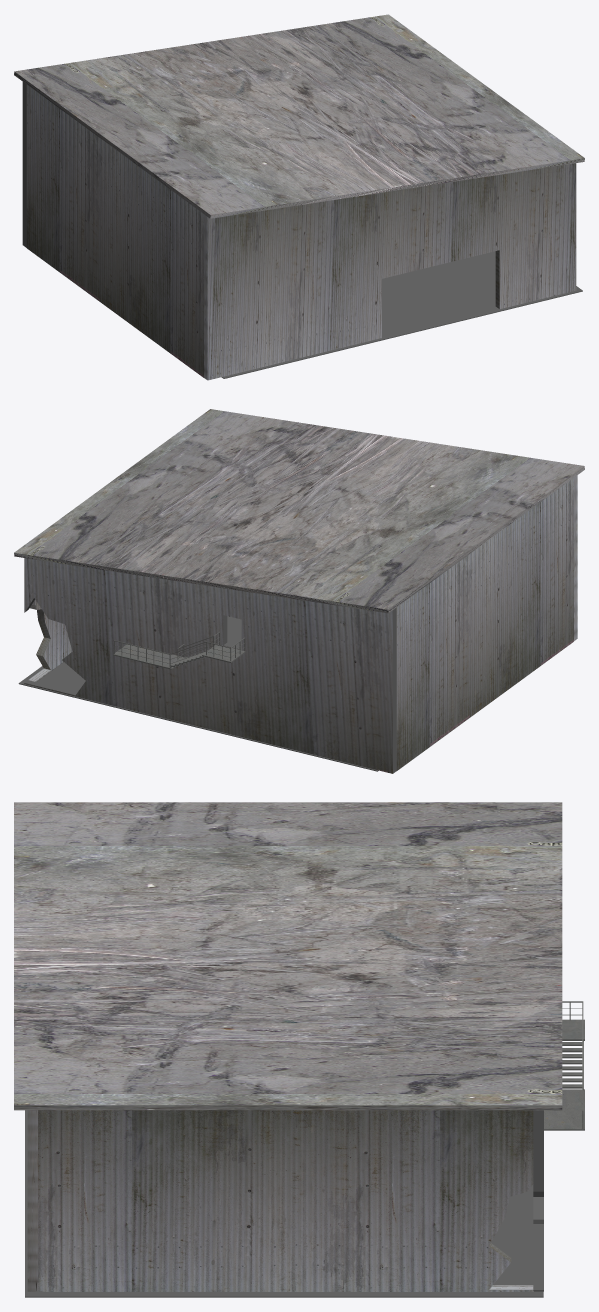
Rendered from Warehouse.dae.
The picture shows the model from 3 angles, top to bottom: view 1: azimuth 30°, elevation 25°; view 2: azimuth 150°, elevation 25°; view 3: azimuth 270°, elevation 25°; orthographic projection. The views are drawn at different scales.
Parts seen in each view (by area): view 1: Roof, pCube7, Left_Wall, Floor, Building_Back_Wall_Back_Wall1; view 2: Roof, Building_Back_Wall_Back_Wall1, Left_Wall, Floor, Building_Right_Wall_Right_Wall, pCube22, pCube7; view 3: Roof, Building_Right_Wall_Right_Wall, Floor, Building_Back_Wall_Back_Wall1, pCube7, pCube22.
Boxes of the visible parts, <box> form: Roof: <box>14,14,584,218</box>; pCube7: <box>204,163,576,380</box>; Left_Wall: <box>26,85,203,377</box>; Floor: <box>221,251,582,378</box>; Building_Back_Wall_Back_Wall1: <box>22,82,26,247</box>; Roof: <box>14,409,584,613</box>; Building_Back_Wall_Back_Wall1: <box>24,558,396,773</box>; Left_Wall: <box>396,478,573,770</box>; Floor: <box>18,616,378,771</box>; Building_Right_Wall_Right_Wall: <box>28,599,72,681</box>; pCube22: <box>113,644,185,669</box>; pCube7: <box>574,475,577,640</box>; Roof: <box>14,802,562,1110</box>; Building_Right_Wall_Right_Wall: <box>38,1110,533,1291</box>; Floor: <box>25,1110,543,1297</box>; Building_Back_Wall_Back_Wall1: <box>533,1110,543,1291</box>; pCube7: <box>27,1110,37,1291</box>; pCube22: <box>544,1089,584,1130</box>.
Bounding box in the file's own units: 118 × 51.11 × 111.
